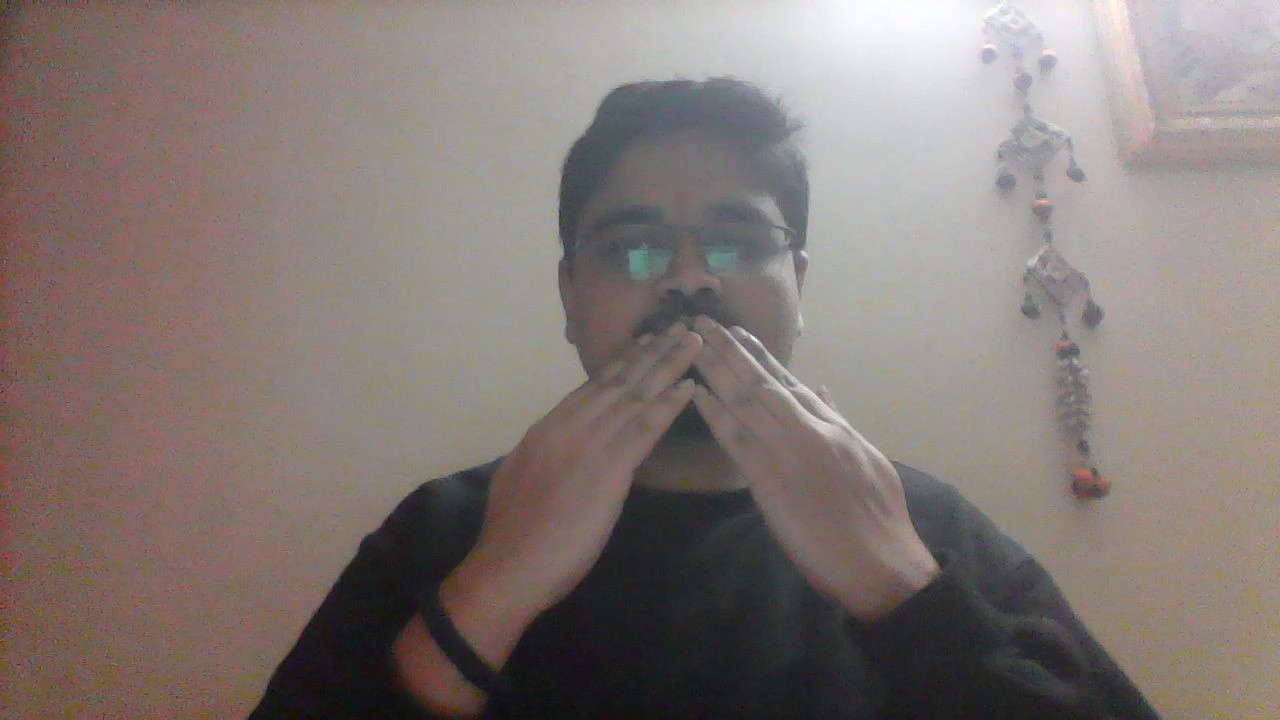Thanks: (459, 314, 922, 599)
